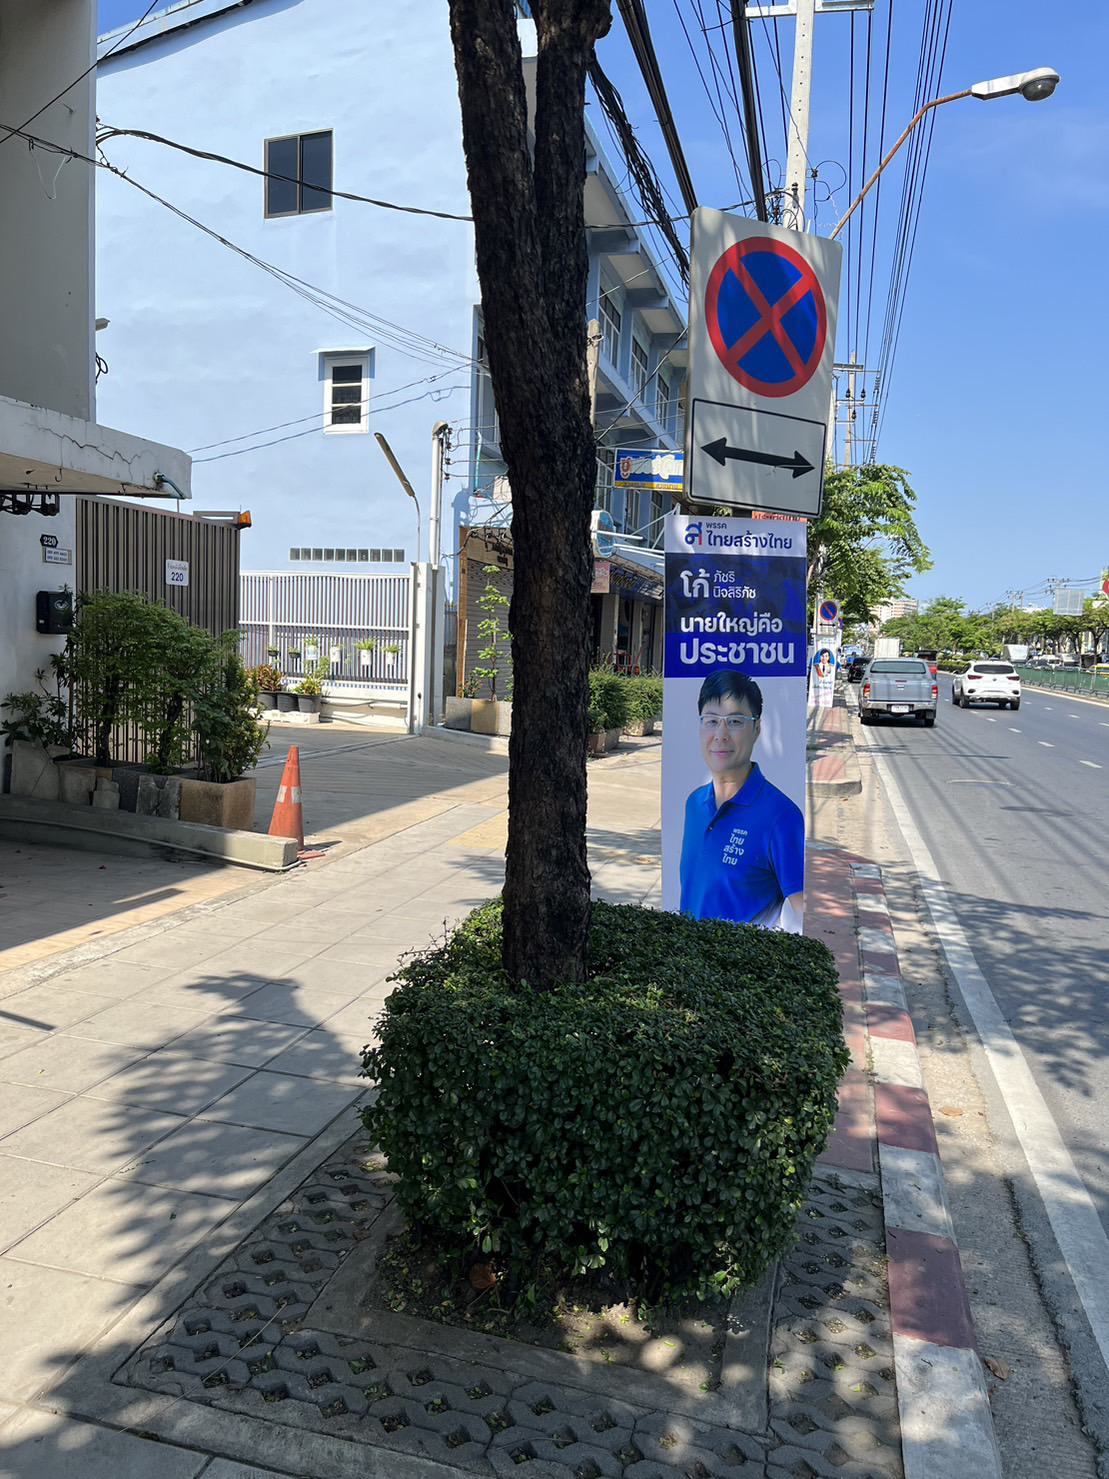Banner: (655, 505, 821, 944)
